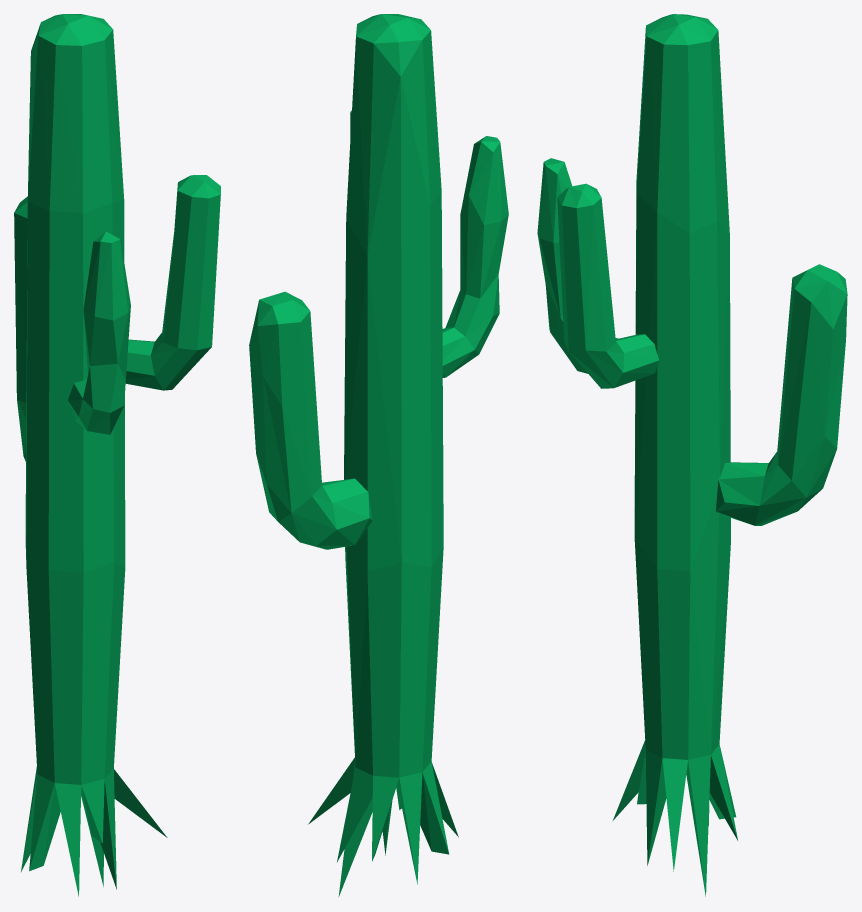
File: SeguaroCactusLarge3_LOD1.fbx
3 renders of one model, left to right at view 1: azimuth 30°, elevation 25°; view 2: azimuth 150°, elevation 25°; view 3: azimuth 270°, elevation 25°, orthographic. The views are drawn at different scales.
Visible parts, largest first — view 1: SeguaroCactusLarge3_LOD1; view 2: SeguaroCactusLarge3_LOD1; view 3: SeguaroCactusLarge3_LOD1.
Part boxes in pixels (x1=…): SeguaroCactusLarge3_LOD1: x1=14, y1=14, x2=220, y2=896; SeguaroCactusLarge3_LOD1: x1=249, y1=14, x2=508, y2=896; SeguaroCactusLarge3_LOD1: x1=537, y1=14, x2=847, y2=896.
Size of the model in its own units: 204 by 623 by 105.
